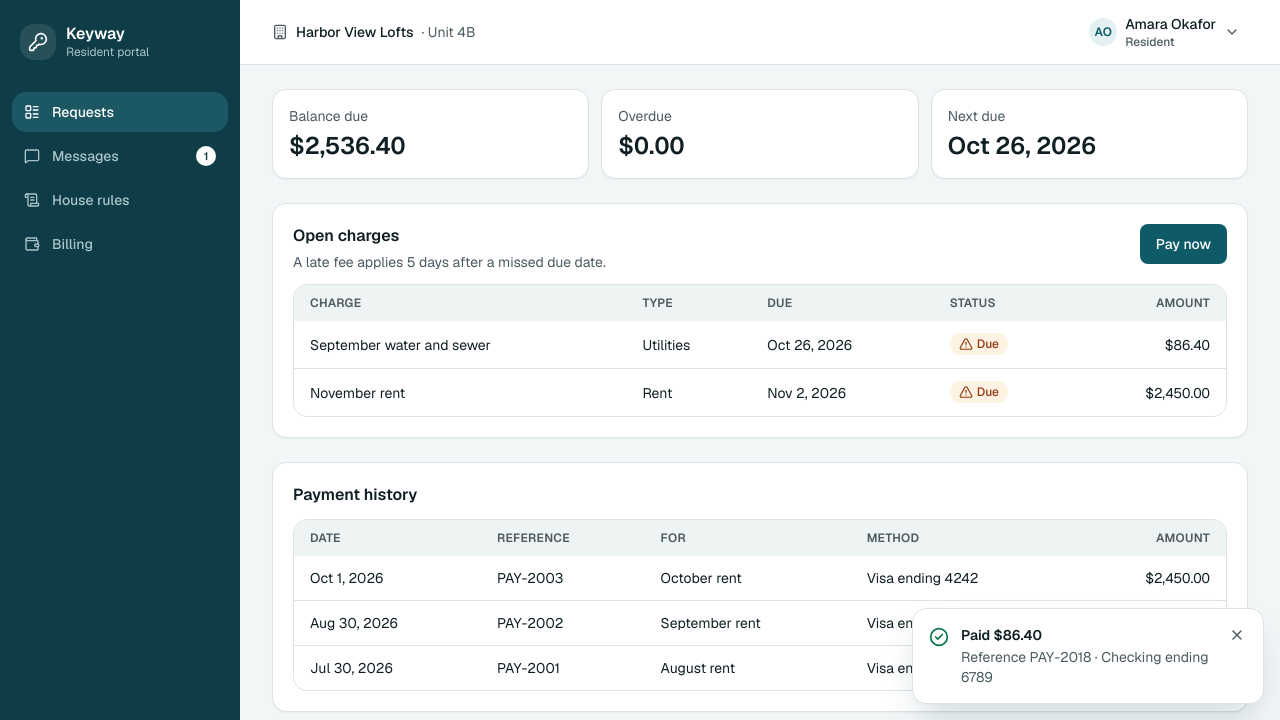
it: BillingView › keeps the dialog open and explains a declined payment
Step 1. Click the button "Pay now" → (1183, 244), box [1140,224,1227,264]
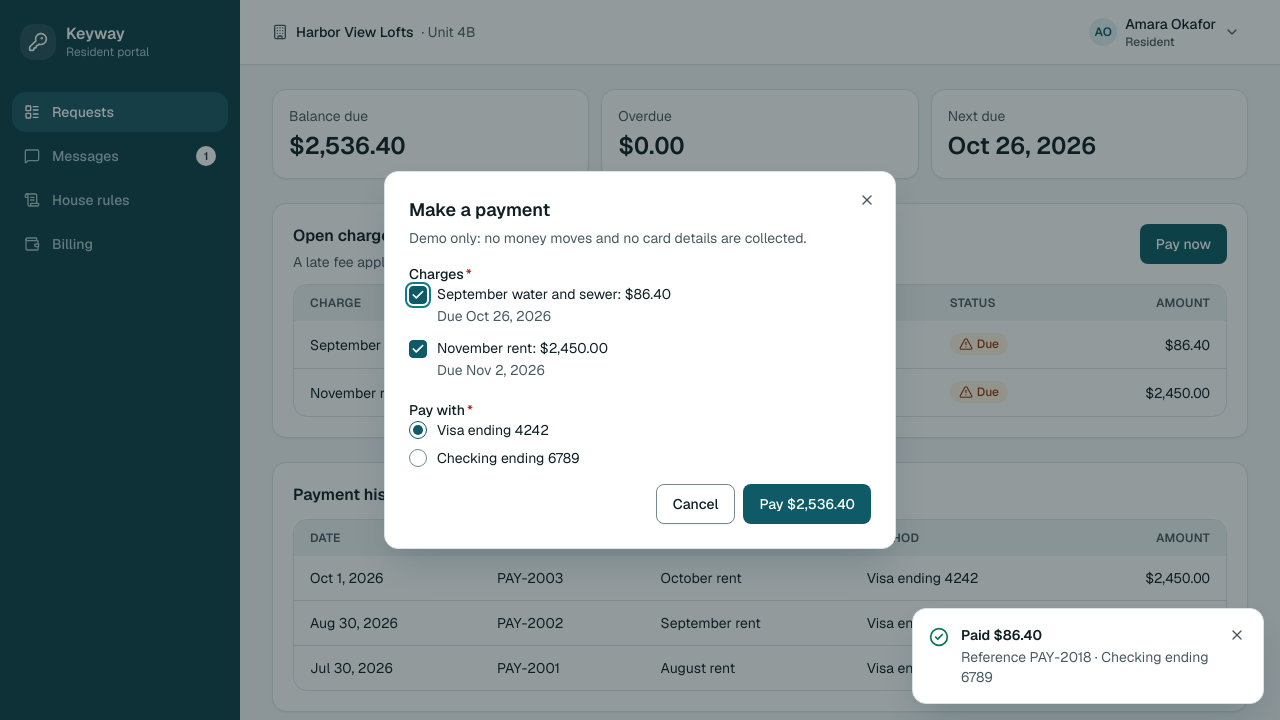
Step 2. Click the button "Pay $2,536.40" → (807, 504), box [743,484,871,524]
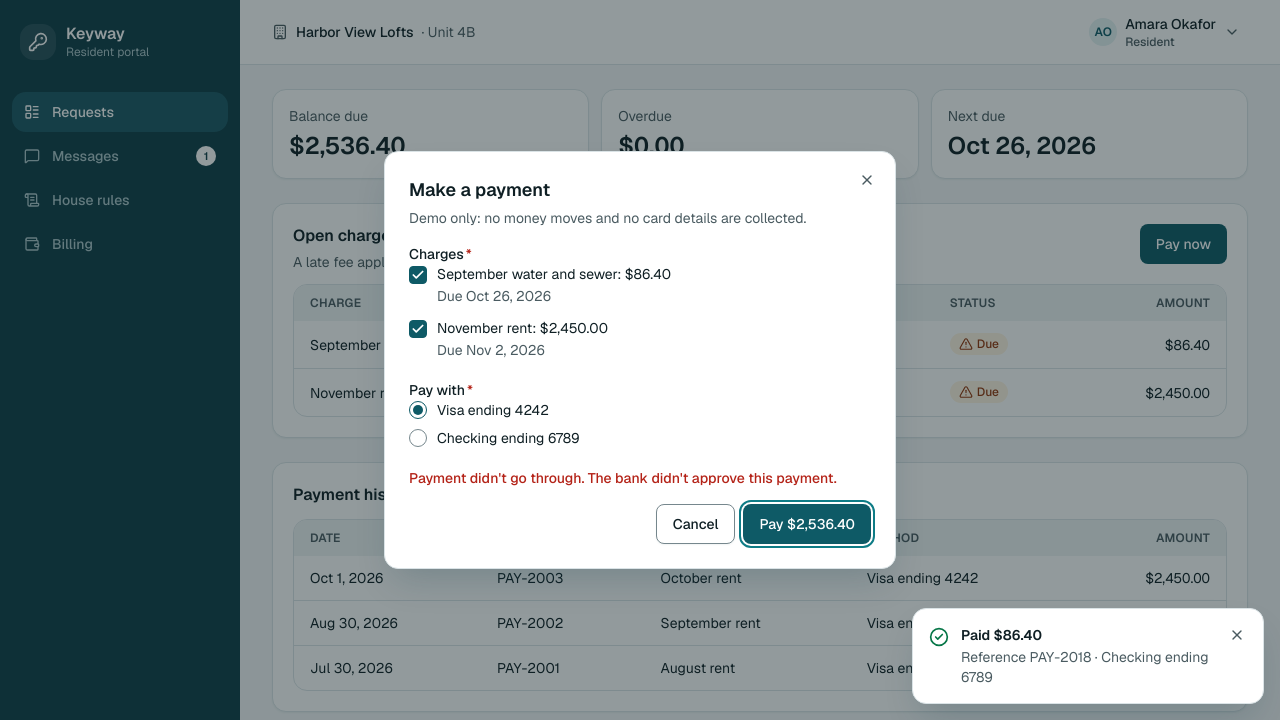
Expected: the message shows "Payment didn't go through.", [409,469,588,487]
